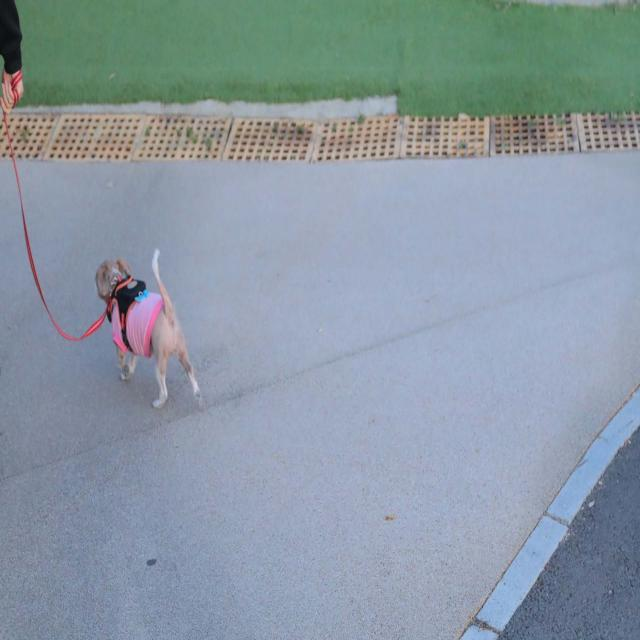Leashed_Dog: (0, 56, 204, 415)
